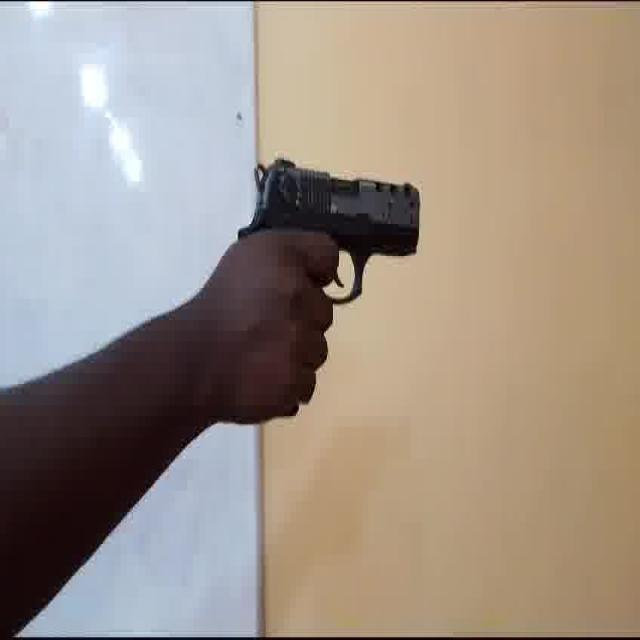weapon: (237, 156, 421, 304)
